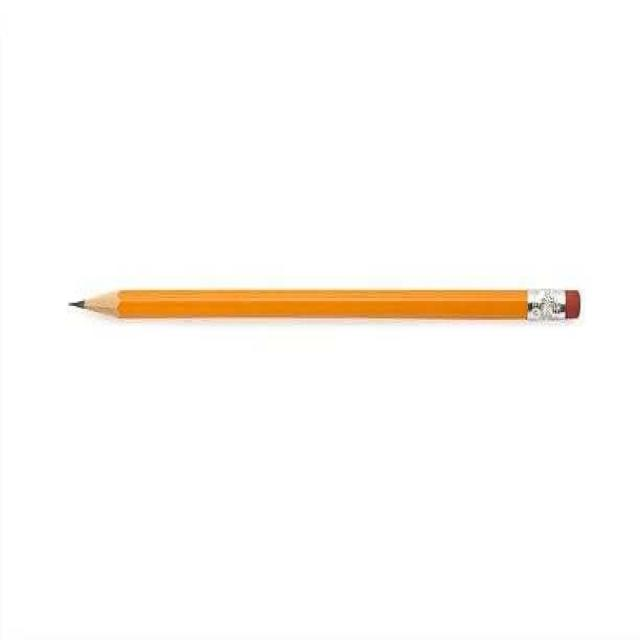pencil: (40, 268, 596, 344)
